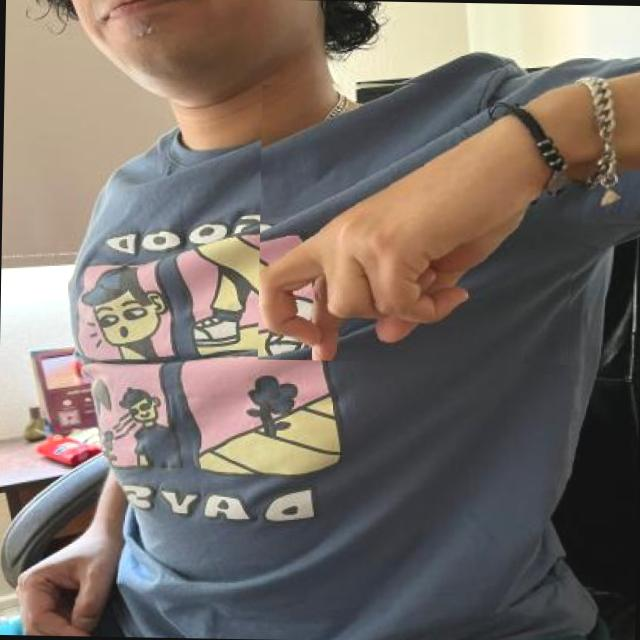P: (258, 75, 580, 365)
